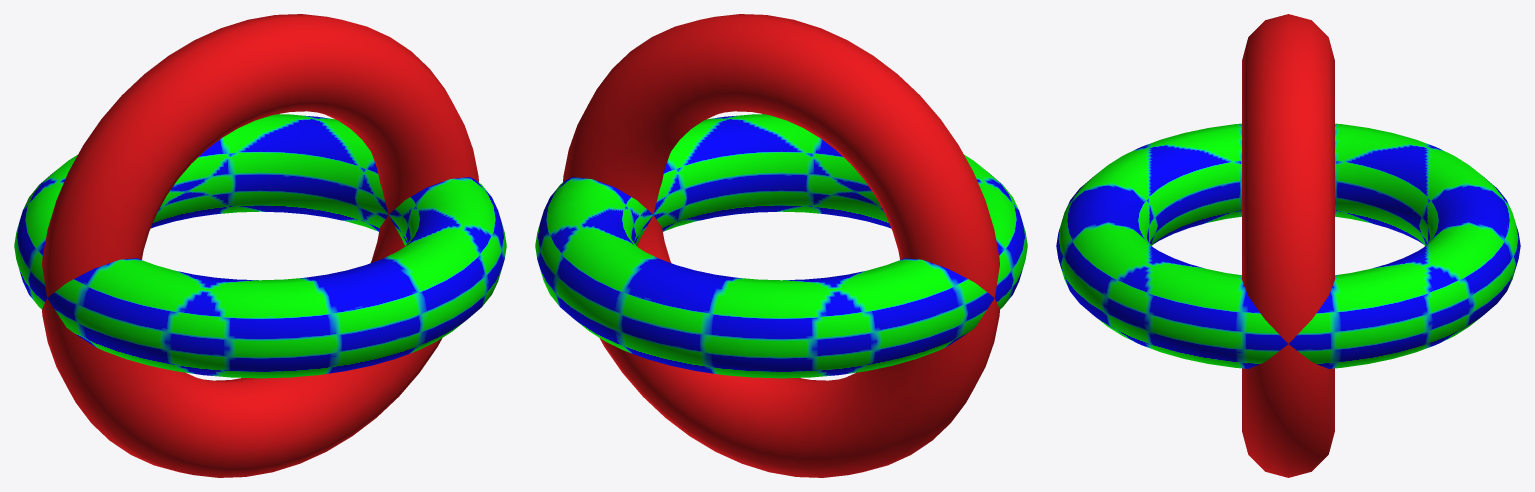
File: tori.glb
The picture shows the model from 3 angles, left to right: view 1: azimuth 30°, elevation 25°; view 2: azimuth 150°, elevation 25°; view 3: azimuth 270°, elevation 25°; orthographic projection. The views are drawn at different scales.
Visible parts, largest first — view 1: Torus, Torus.001; view 2: Torus, Torus.001; view 3: Torus.001, Torus.
Part boxes in pixels (x1,y1,x2,y2): Torus: [42, 14, 478, 477]; Torus.001: [14, 114, 506, 378]; Torus: [563, 14, 999, 477]; Torus.001: [535, 114, 1027, 378]; Torus.001: [1056, 123, 1520, 368]; Torus: [1242, 14, 1334, 477].
Size of the model in its own units: 2.5 by 2.5 by 2.5.
2 materials, 1 textured.
